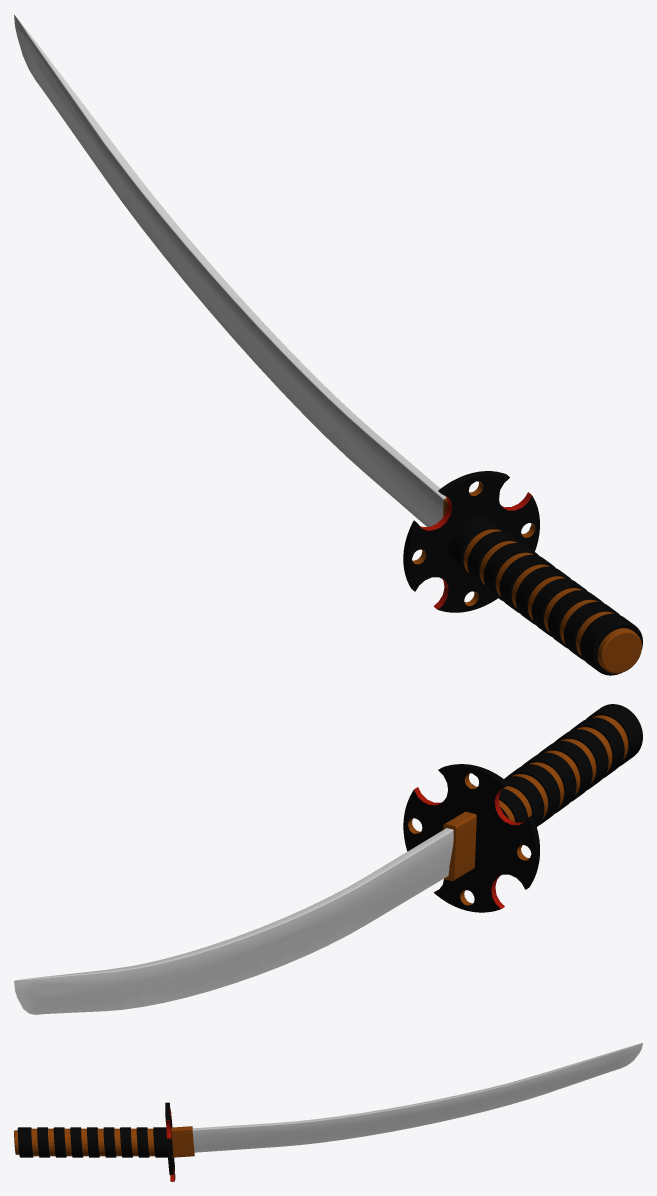
The model's file is Katana.fbx.
3 views of the same model, one above another, from view 1: azimuth 30°, elevation 25°; view 2: azimuth 150°, elevation 25°; view 3: azimuth 270°, elevation 25° (orthographic). The views are drawn at different scales.
Parts seen in each view (by area): view 1: katana_Plane.002; view 2: katana_Plane.002; view 3: katana_Plane.002.
Boxes of the visible parts, x1,y1,x2,y2 form: katana_Plane.002: (14,15,642,675); katana_Plane.002: (14,704,642,1014); katana_Plane.002: (14,1043,642,1181).
Bounding box in the file's own units: 20.01 × 37.61 × 159.
